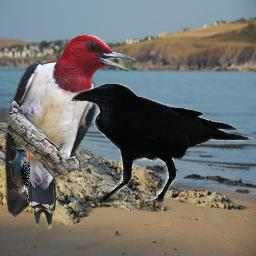Crow: (70, 83, 254, 206)
Woodpecker: (0, 35, 140, 229), (7, 145, 30, 204)
